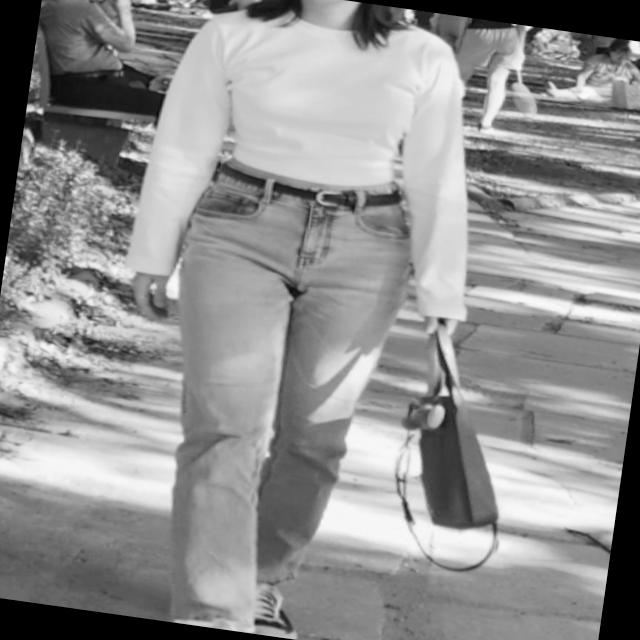denimpants: (129, 158, 423, 640)
longsleeve: (124, 0, 504, 321)
